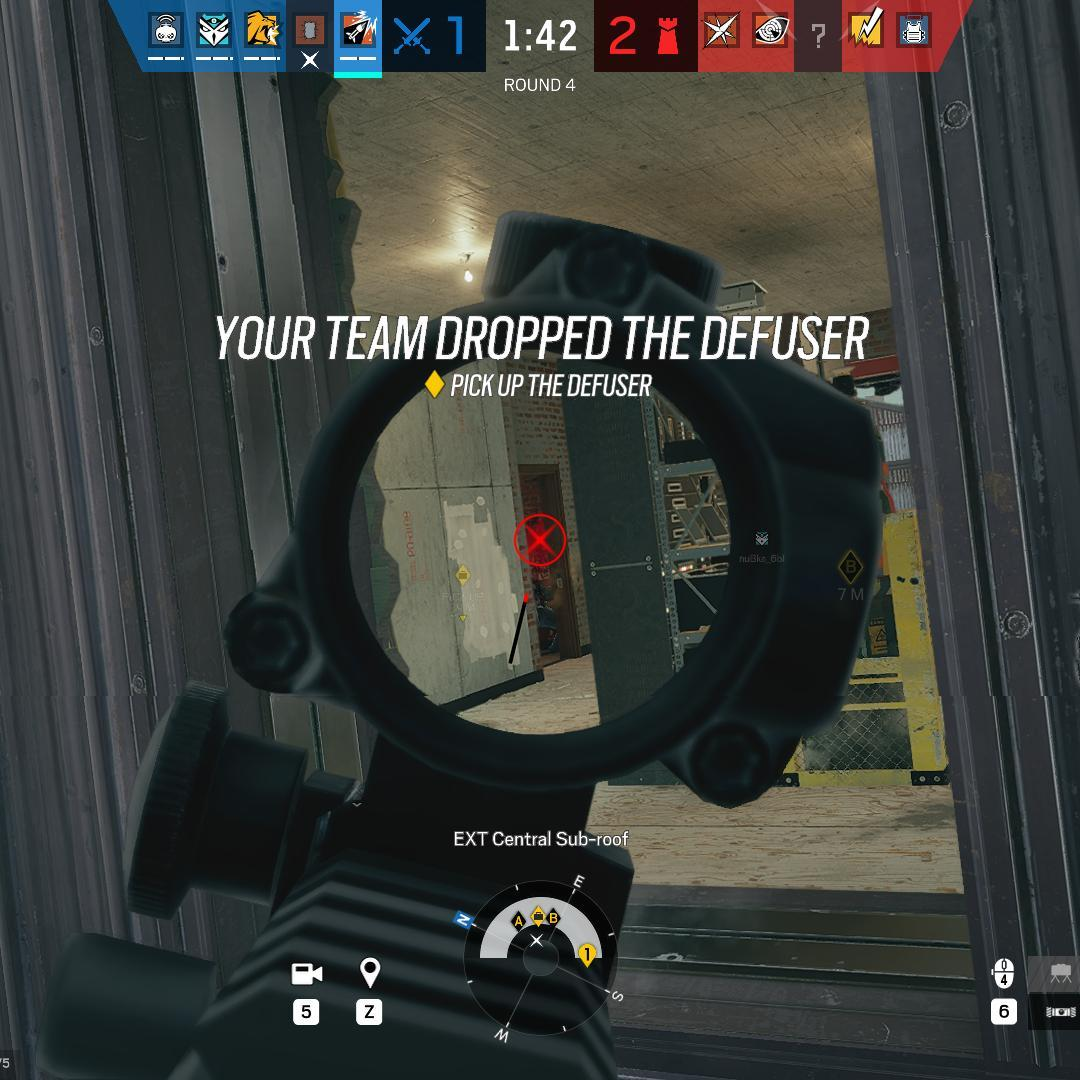Friend_label: (739, 529, 787, 564)
